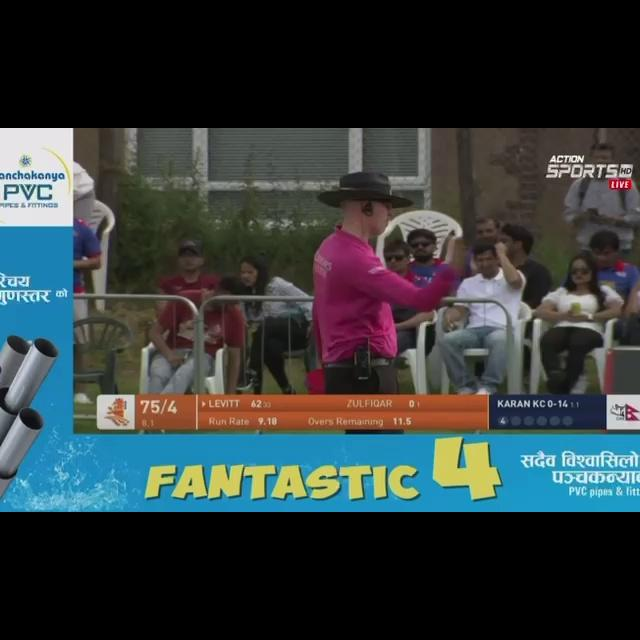umpire: (266, 162, 488, 392)
